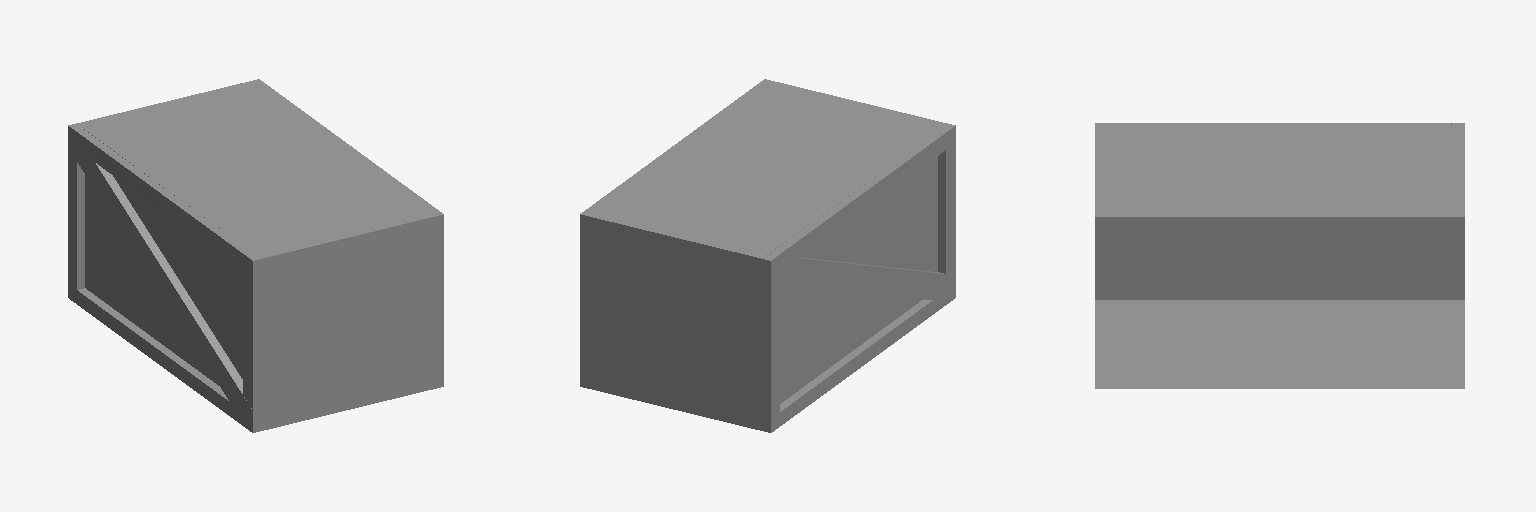
File: crate.obj
3 views of the same model, side by side, from view 1: azimuth 30°, elevation 25°; view 2: azimuth 150°, elevation 25°; view 3: azimuth 270°, elevation 25° (orthographic).
Visible parts, largest first — view 1: Cube; view 2: Cube; view 3: Cube.
Part boxes in pixels (left/top/right/bottom): Cube: left=68, top=79, right=443, bottom=432; Cube: left=580, top=79, right=955, bottom=432; Cube: left=1095, top=123, right=1464, bottom=388.
Bounding box in the file's own units: 8.36 × 7.21 × 14.01.